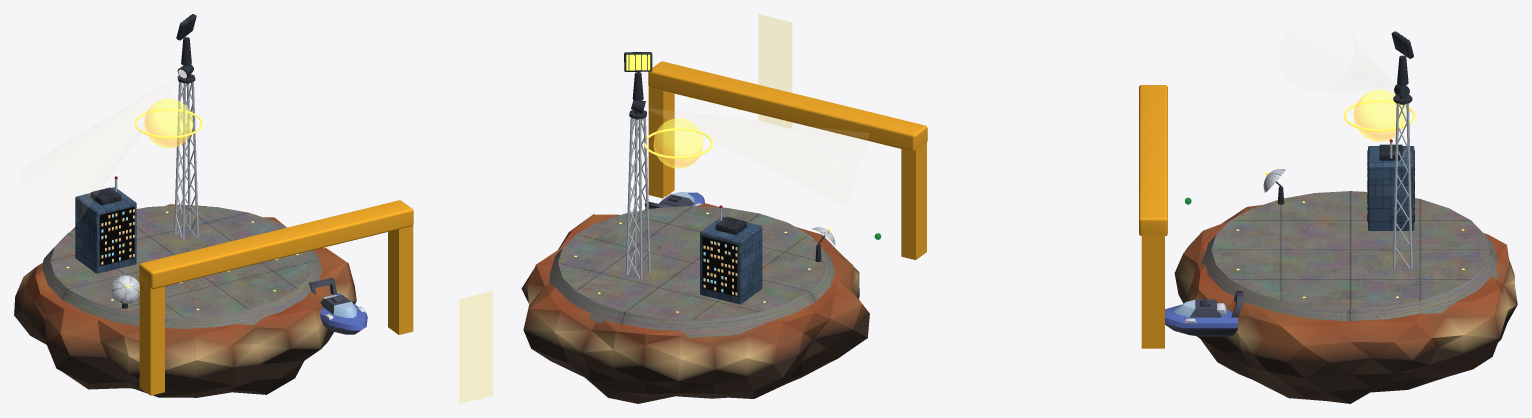
File: customs.glb
3 views of the same model, side by side, from view 1: azimuth 30°, elevation 25°; view 2: azimuth 150°, elevation 25°; view 3: azimuth 270°, elevation 25° (orthographic). The views are drawn at different scales.
Parts seen in each view (by area): view 1: object 1, object 2, object 82, anim:scan, object 80, object 81, object 12, object 13, object 93, boat-speed-a, anim:rot; view 2: object 1, object 2, object 82, object 80, object 81, object 12, anim:scan, object 93, object 14, boat-speed-a, anim:rot, object 94 (+1 smaller); view 3: object 2, object 1, object 82, object 12, object 81, boat-speed-a, object 93.
Boxes of the visible parts, x1=… form: object 1: x1=14, y1=204, x2=356, y2=397; object 2: x1=42, y1=205, x2=322, y2=328; object 82: x1=139, y1=200, x2=413, y2=289; anim:scan: x1=459, y1=291, x2=492, y2=403; object 80: x1=139, y1=279, x2=164, y2=395; object 81: x1=388, y1=225, x2=413, y2=334; object 12: x1=75, y1=187, x2=136, y2=273; object 13: x1=99, y1=206, x2=134, y2=266; object 93: x1=144, y1=98, x2=193, y2=148; boat-speed-a: x1=308, y1=277, x2=367, y2=334; anim:rot: x1=111, y1=275, x2=139, y2=303; object 1: x1=521, y1=203, x2=869, y2=403; object 2: x1=549, y1=206, x2=835, y2=337; object 82: x1=648, y1=61, x2=927, y2=151; object 80: x1=901, y1=142, x2=926, y2=259; object 81: x1=648, y1=87, x2=674, y2=198; object 12: x1=700, y1=216, x2=762, y2=304; anim:scan: x1=758, y1=14, x2=791, y2=128; object 93: x1=653, y1=118, x2=703, y2=168; object 14: x1=702, y1=236, x2=737, y2=296; boat-speed-a: x1=644, y1=192, x2=704, y2=209; anim:rot: x1=624, y1=52, x2=652, y2=71; object 94: x1=644, y1=128, x2=713, y2=158; object 2: x1=1201, y1=191, x2=1498, y2=321; object 1: x1=1174, y1=205, x2=1517, y2=403; object 82: x1=1139, y1=85, x2=1167, y2=235; object 12: x1=1368, y1=146, x2=1414, y2=230; object 81: x1=1141, y1=234, x2=1164, y2=348; boat-speed-a: x1=1165, y1=291, x2=1243, y2=336; object 93: x1=1353, y1=89, x2=1405, y2=141.
Size of the model in its own units: 6.4 by 6.35 by 9.68.
19 materials, 7 textured.
